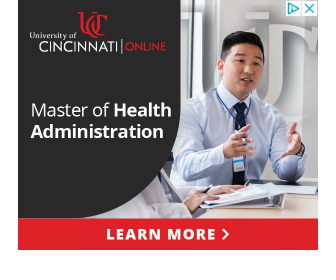fake_button: (8, 209, 319, 255)
